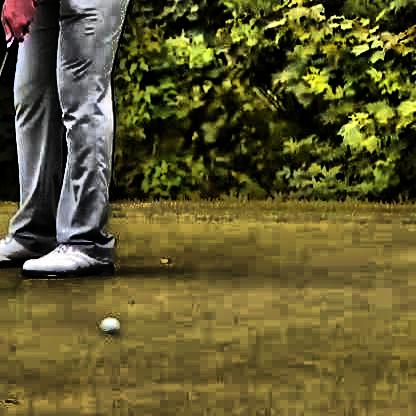golfball: (97, 314, 116, 333)
